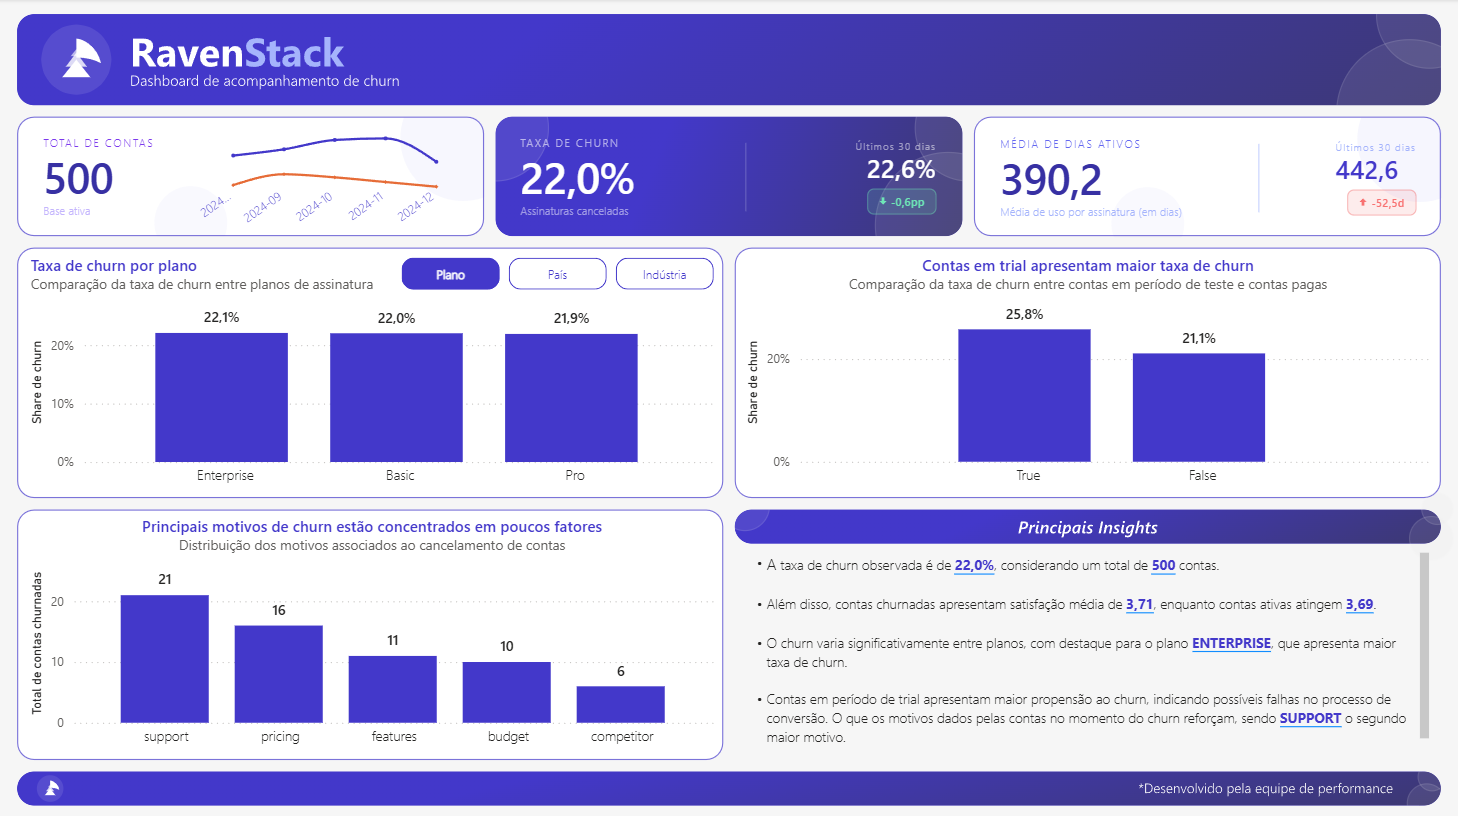

The dashboard page shown, as its layout file describes it:
{"tool":"powerbi","page":{"name":"Painel","canvas":[1280,720],"ordinal":0},"visuals":[{"type":"textbox","box":[649.8,481.2,610.2,183.5],"z":0},{"type":"clusteredColumnChart","fields":{"Category":["ravenstack_account_gold.plan"],"Y":["_Medidas (2).%_churn"]},"box":[21.6,224.9,610.8,211.8],"z":1000},{"type":"clusteredColumnChart","title":"Contas em trial apresentam maior taxa de churn","fields":{"Y":["_Medidas (2).%_churn"],"Category":["ravenstack_account_gold.is_trial"]},"box":[650.8,225,609.5,211.5],"z":2000},{"type":"clusteredColumnChart","title":"Principais motivos de churn estão concentrados em poucos fatores","fields":{"Category":["ravenstack_account_gold.reason"],"Y":["_Medidas (2).Total_contas_churnadas"]},"box":[21.5,453.6,609.5,211.5],"z":3000},{"type":"advancedSlicerVisual","fields":{"Values":["Paramentos.Selecao"]},"box":[347.8,222.3,285.9,38.5],"z":4000},{"type":"htmlContent443BE3AD55E043BF878BED274D3A6855","fields":{"content":["_Medidas (2).HTML_Churn_Card"]},"box":[429.4,98.2,422.1,115.6],"z":5000},{"type":"htmlContent443BE3AD55E043BF878BED274D3A6855","fields":{"content":["_Medidas (2).HTML_Uso_Card"]},"box":[850.8,98.8,422.6,115.8],"z":6000},{"type":"htmlContent443BE3AD55E043BF878BED274D3A6855","fields":{"content":["_Medidas (2).HTML_Contas_Card"]},"box":[10.7,98.6,427.1,115],"z":7000},{"type":"lineChart","fields":{"Y":["_Medidas (2).Total_contas","_Medidas (2).Total_contas_churnadas"],"Category":["Calendario.Mes_ano_1"]},"box":[165.7,97.9,240,110],"z":8000}]}

Visuals, with their boxes in screenshot pixels (x1, y1, x2, y2), scaled from the page's 1280x720 canvas onto the 1458x816 screenshot:
textbox: bbox=[740, 545, 1435, 753]
clusteredColumnChart - ravenstack_account_gold.plan x _Medidas (2).%_churn: bbox=[25, 255, 720, 495]
"Contas em trial apresentam maior taxa de churn" clusteredColumnChart: bbox=[741, 255, 1436, 495]
"Principais motivos de churn estão concentrados em poucos fatores" clusteredColumnChart: bbox=[24, 514, 719, 754]
advancedSlicerVisual - Paramentos.Selecao: bbox=[396, 252, 722, 296]
htmlContent443BE3AD55E043BF878BED274D3A6855 - _Medidas (2).HTML_Churn_Card: bbox=[489, 111, 970, 242]
htmlContent443BE3AD55E043BF878BED274D3A6855 - _Medidas (2).HTML_Uso_Card: bbox=[969, 112, 1450, 243]
htmlContent443BE3AD55E043BF878BED274D3A6855 - _Medidas (2).HTML_Contas_Card: bbox=[12, 112, 499, 242]
lineChart - _Medidas (2).Total_contas x _Medidas (2).Total_contas_churnadas: bbox=[189, 111, 462, 236]
